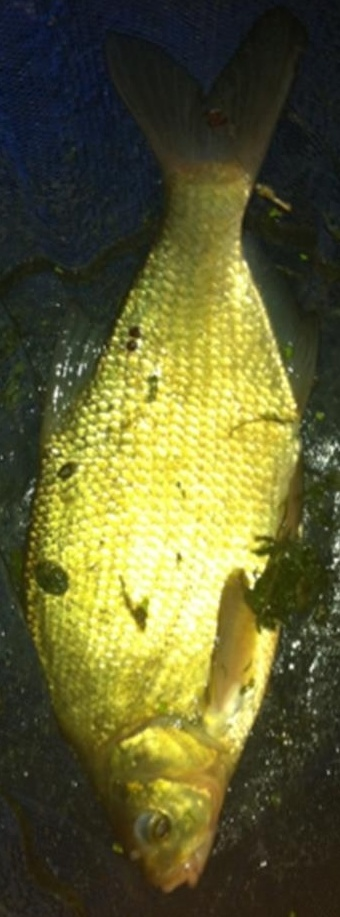Abramis brama: (20, 20, 320, 897)
